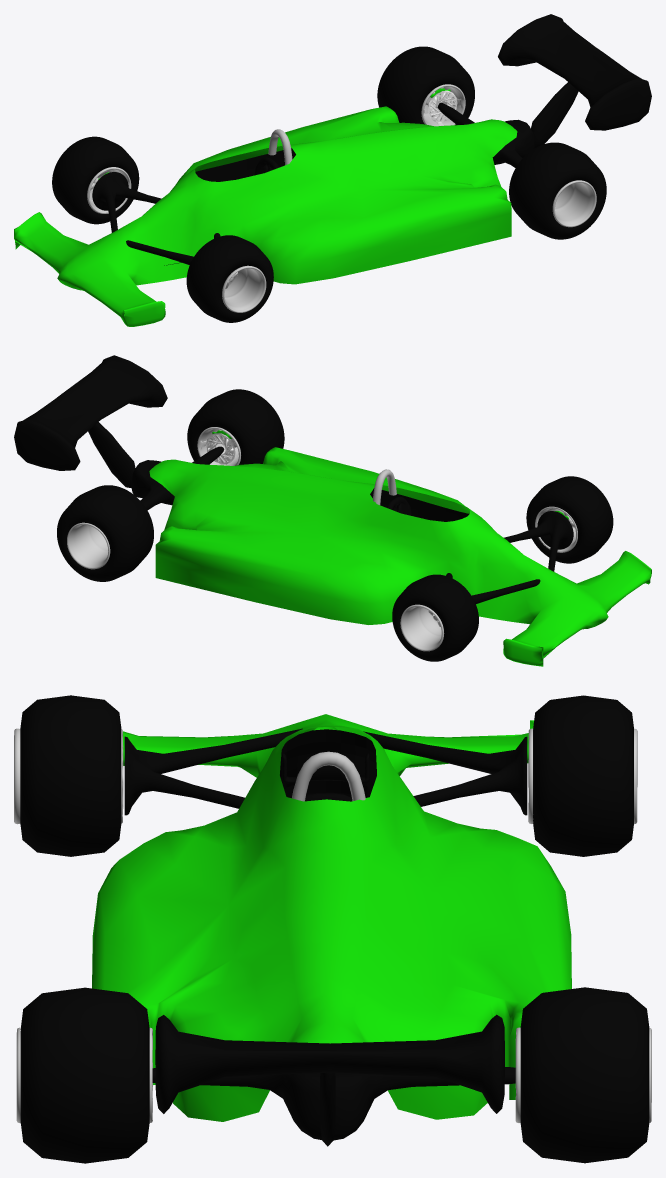
3 views of the same model, one above another, from view 1: azimuth 30°, elevation 25°; view 2: azimuth 150°, elevation 25°; view 3: azimuth 270°, elevation 25° (orthographic). The views are drawn at different scales.
Visible parts, largest first — view 1: wing support; view 2: wing support; view 3: wing support.
Boxes of the visible parts, x1=… form: wing support: x1=14, y1=14, x2=651, y2=326; wing support: x1=14, y1=355, x2=651, y2=666; wing support: x1=14, y1=695, x2=651, y2=1163.
Bounding box in the file's own units: 720 × 145 × 379.
